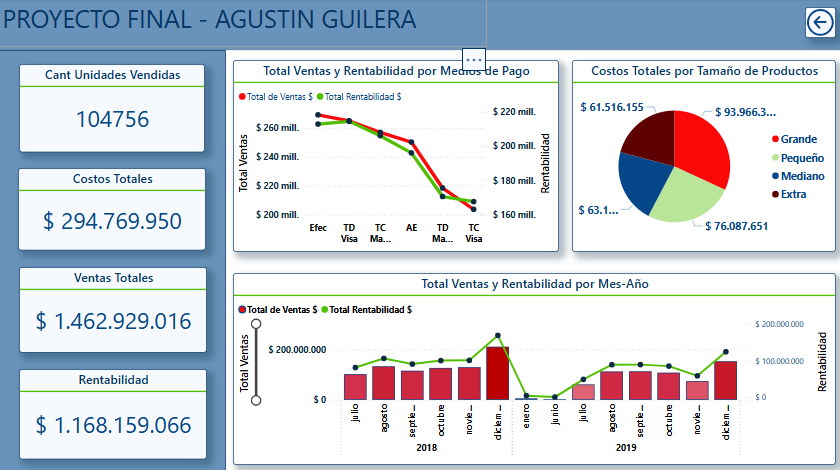

Layout of this report page (visuals, bound fields, positions):
{"tool":"powerbi","page":{"name":"Overview","canvas":[1280,720],"ordinal":1},"visuals":[{"type":"lineChart","title":"Total Ventas y Rentabilidad por Medios de Pago","fields":{"Category":["Medios de pago.Descripción Abrev"],"Y":["Medidas.Total de Ventas $"],"Y2":["Medidas.Total Rentabilidad $"]},"box":[354.2,93.6,493.9,290.9],"z":0},{"type":"card","title":"Cant Unidades Vendidas","fields":{"Values":["Medidas.Total de cantidades vendidas"]},"box":[30.2,100.8,282.2,133.9],"z":1000,"group":"g1"},{"type":"shape","box":[0,79.2,344.2,640.8],"z":1000},{"type":"group","id":"g1","title":"Grupo 1","box":[28.8,100.8,286.6,599],"z":2000},{"type":"card","title":"Costos Totales","fields":{"Values":["Medidas.Total de Costos $"]},"box":[28.8,259.2,285.1,125.3],"z":2000,"group":"g1"},{"type":"shape","box":[0,0,1280.2,79.2],"z":3000},{"type":"card","title":"Ventas Totales","fields":{"Values":["Medidas.Total de Ventas $"]},"box":[30.2,409,285.1,129.6],"z":3000,"group":"g1"},{"type":"pieChart","title":"Costos Totales por Tamaño de Productos","fields":{"Category":["Producto.Tamaño "],"Y":["Medidas.Total de Costos $"]},"box":[868.3,93.6,400.3,290.9],"z":4000},{"type":"lineStackedColumnComboChart","title":"Total Ventas y Rentabilidad por Mes-Año","fields":{"Y":["Medidas.Total de Ventas $"],"Category":["Tabla de Tiempo.Date.Variación.Jerarquía de fechas.Año","Tabla de Tiempo.Date.Variación.Jerarquía de fechas.Mes"],"Y2":["Medidas.Total Rentabilidad $"]},"box":[354.7,417.2,914.1,290.6],"z":5000},{"type":"card","title":"Rentabilidad ","fields":{"Values":["Medidas.Total Rentabilidad $"]},"box":[30.2,563,285.1,136.8],"z":5000,"group":"g1"},{"type":"textbox","box":[0,0,740.2,74.9],"z":6000},{"type":"actionButton","box":[1222.5,14,46.6,46.6],"z":7000}]}

Visuals, with their boxes in screenshot pixels (x1, y1, x2, y2), scaled from the page's 1280x720 canvas onto the 840x470 screenshot:
"Total Ventas y Rentabilidad por Medios de Pago" lineChart: bbox=(232, 61, 557, 251)
"Cant Unidades Vendidas" card: bbox=(20, 66, 205, 153)
shape: bbox=(0, 52, 226, 469)
"Grupo 1" group: bbox=(19, 66, 207, 457)
"Costos Totales" card: bbox=(19, 169, 206, 251)
shape: bbox=(0, 0, 839, 52)
"Ventas Totales" card: bbox=(20, 267, 207, 352)
"Costos Totales por Tamaño de Productos" pieChart: bbox=(570, 61, 833, 251)
"Total Ventas y Rentabilidad por Mes-Año" lineStackedColumnComboChart: bbox=(233, 272, 833, 462)
"Rentabilidad " card: bbox=(20, 368, 207, 457)
textbox: bbox=(0, 0, 486, 49)
actionButton: bbox=(802, 9, 833, 40)
